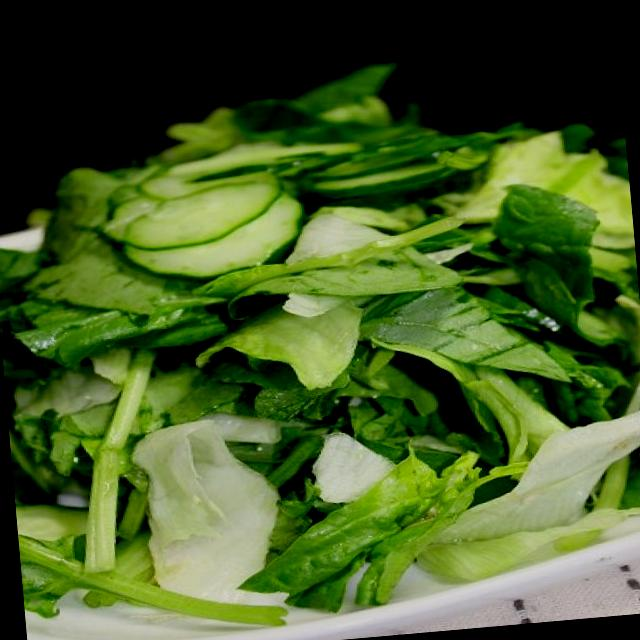Green Salad: (0, 31, 640, 598)
